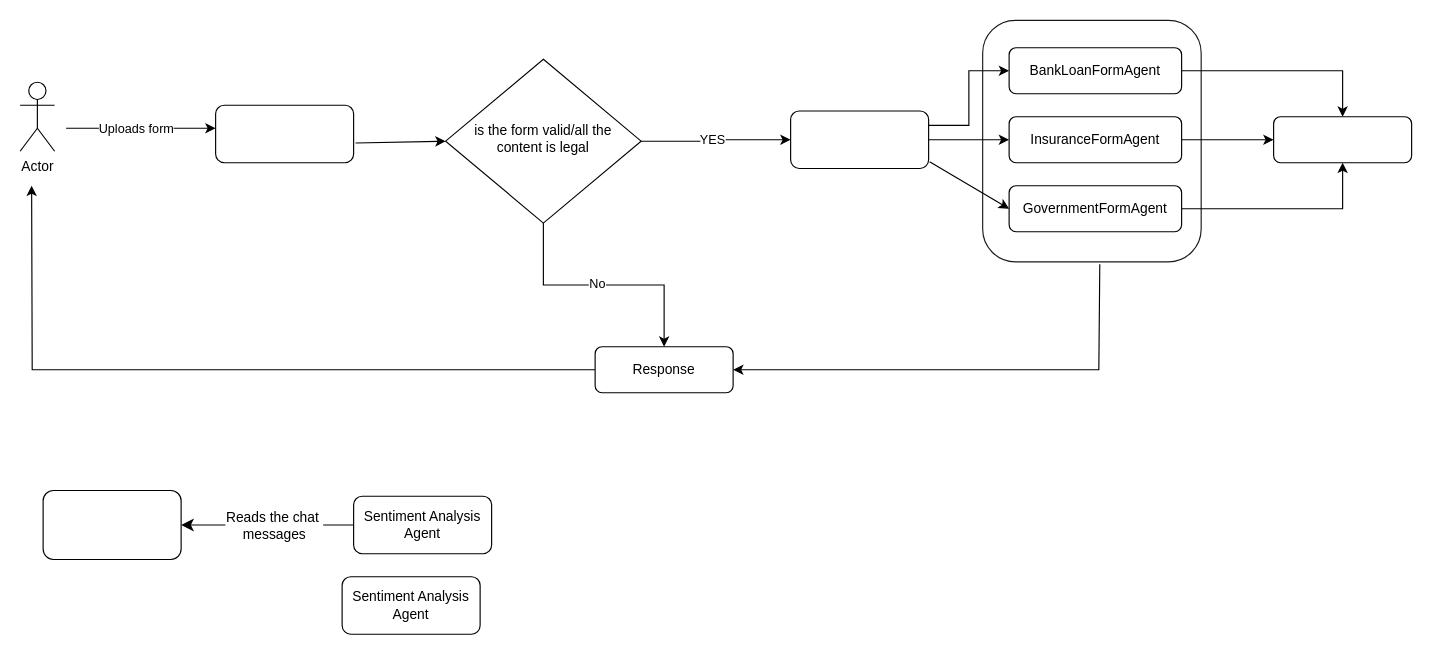
This 1432x654 diagram has some shape labels left out. The box of each missing label's shape, as (x1, y1, x2, y2) in pixels:
Chat Module: (42, 489, 181, 559)
Classifier Agent: (789, 110, 929, 168)
Guard Agent: (214, 104, 354, 163)
VectorDB-Collection: (1272, 116, 1412, 163)
